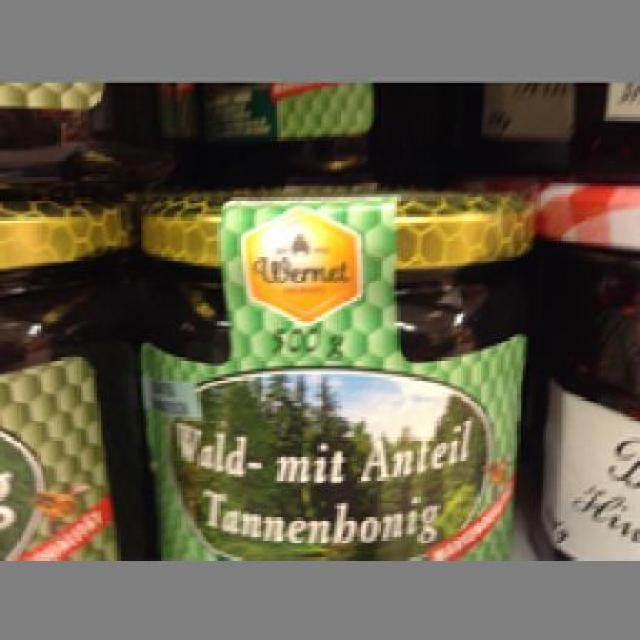Honey: (126, 187, 523, 564)
